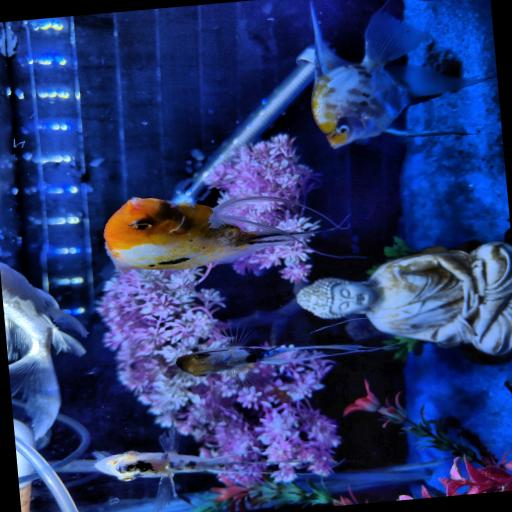Fish: (311, 7, 495, 148), (95, 429, 299, 511), (104, 196, 316, 273), (0, 264, 87, 439), (177, 344, 384, 378)
